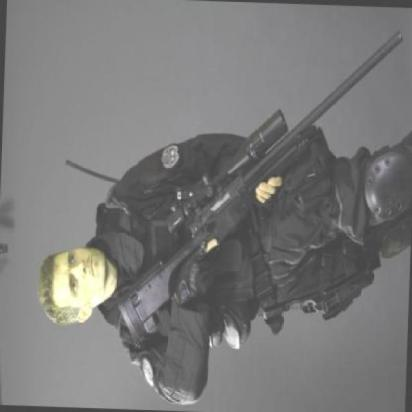Gun: (118, 21, 404, 358)
